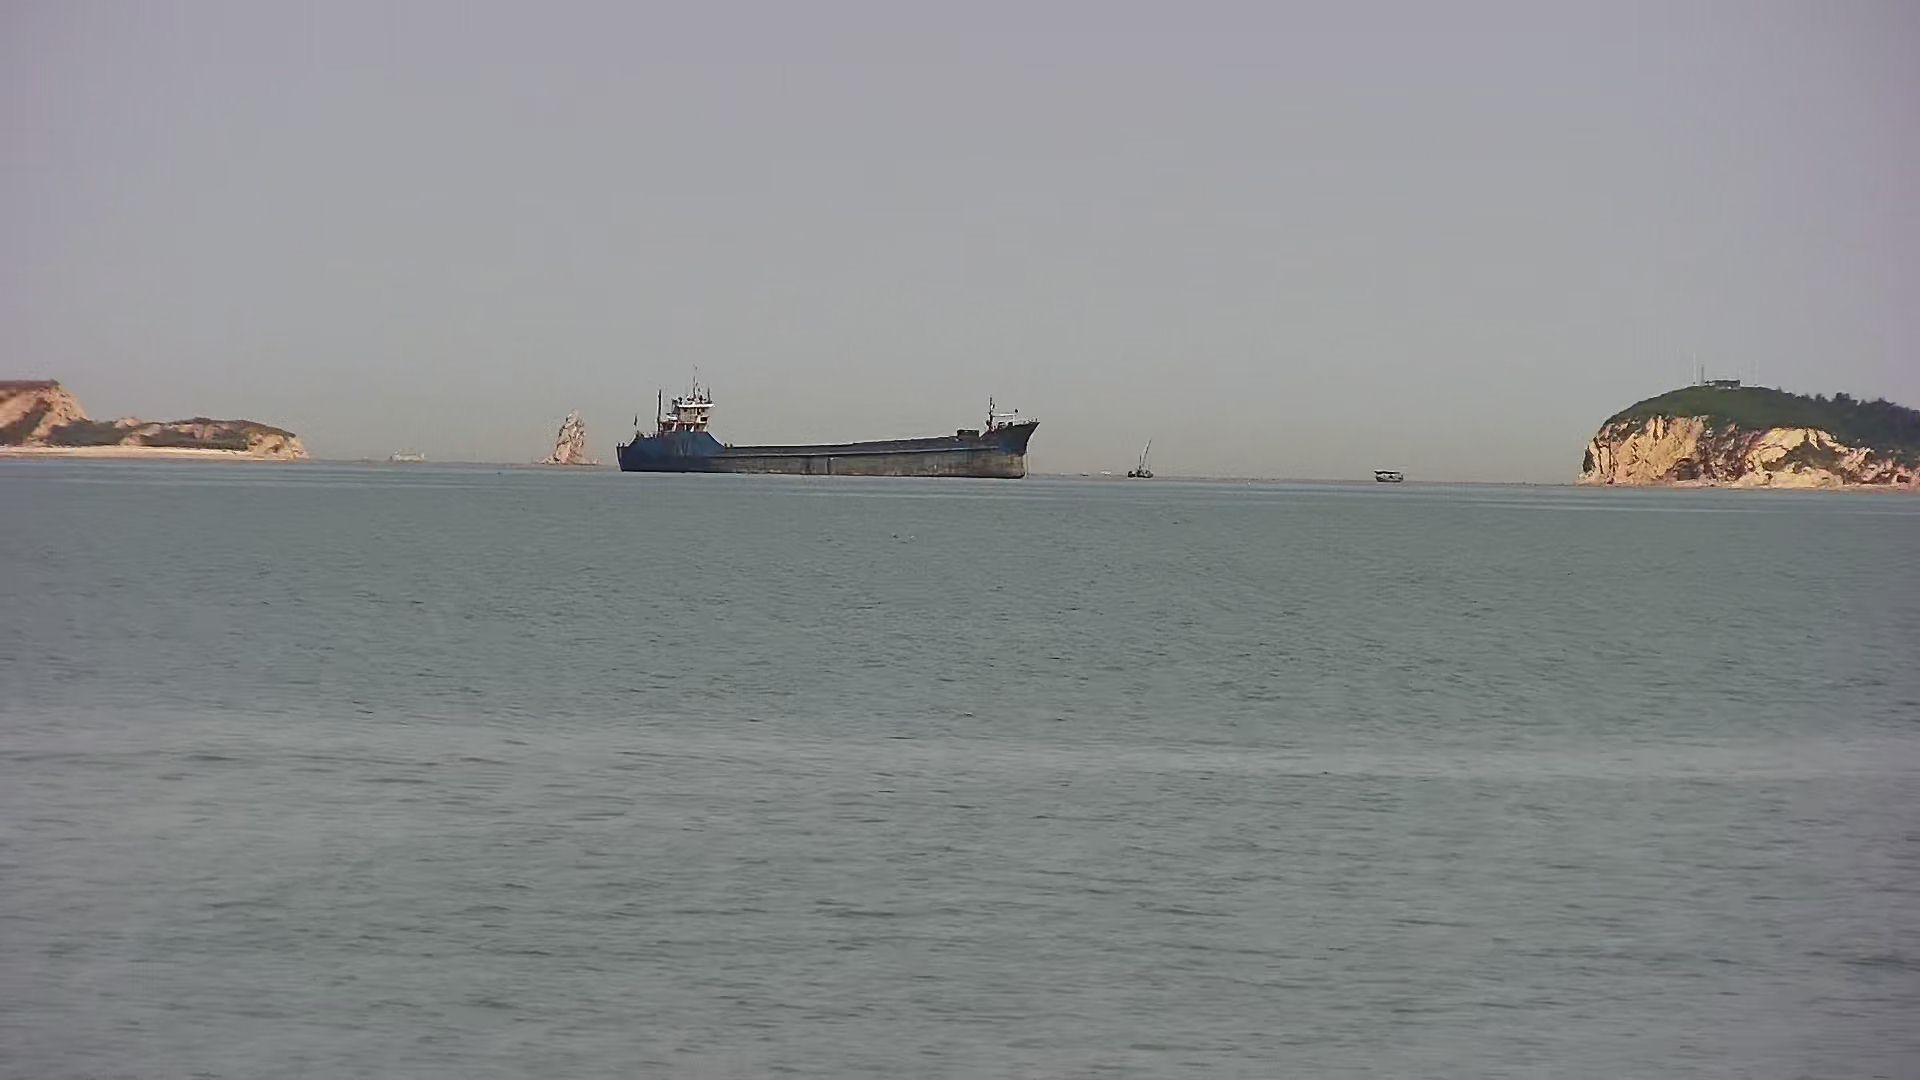rock: (1564, 361, 1920, 487), (1, 375, 319, 465), (531, 406, 603, 467)
ship: (615, 388, 1043, 483)
